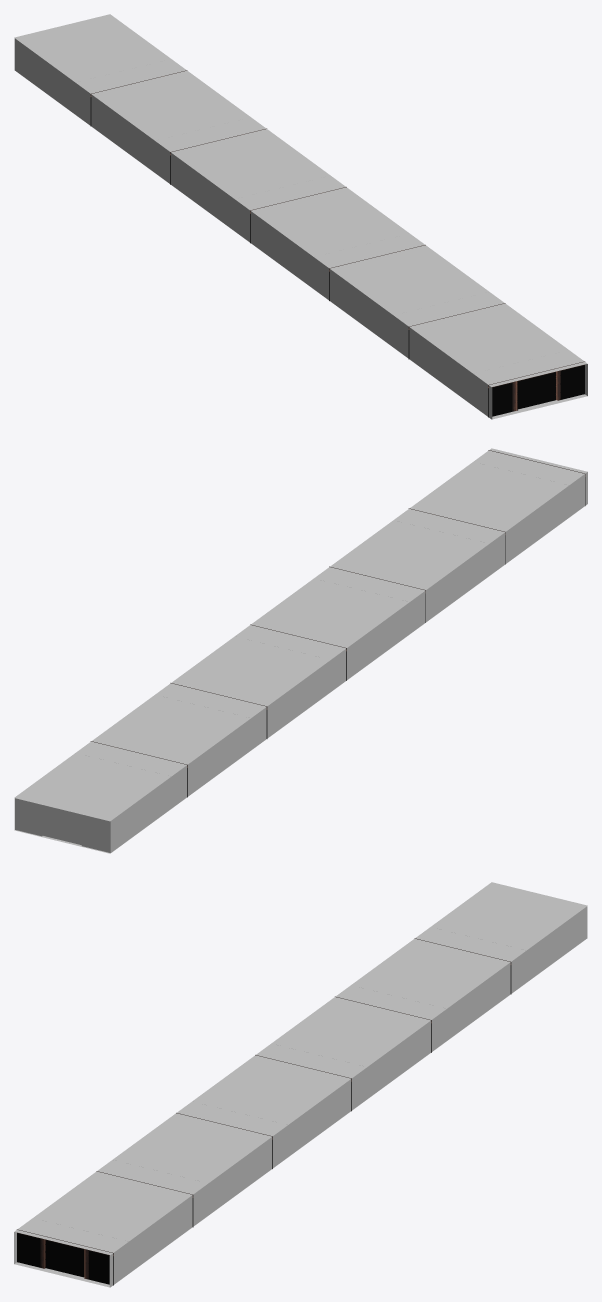
The model's file is Western.fbx.
The picture shows the model from 3 angles, top to bottom: view 1: azimuth 30°, elevation 25°; view 2: azimuth 150°, elevation 25°; view 3: azimuth 330°, elevation 25°; orthographic projection.
Visible parts, largest first — view 1: ceiling, Plane551, born009; view 2: ceiling, Plane551, Plane576, born009; view 3: ceiling, Plane551, born009.
Boxes of the visible parts, <box> form: ceiling: <box>14,14,587,386</box>; Plane551: <box>14,38,587,419</box>; born009: <box>90,70,584,417</box>; ceiling: <box>14,448,587,821</box>; Plane551: <box>14,472,587,852</box>; Plane576: <box>15,798,110,852</box>; born009: <box>90,450,585,797</box>; ceiling: <box>14,882,587,1254</box>; Plane551: <box>14,906,586,1287</box>; born009: <box>17,938,511,1285</box>.
Size of the model in its own units: 500 by 162 by 4273.
